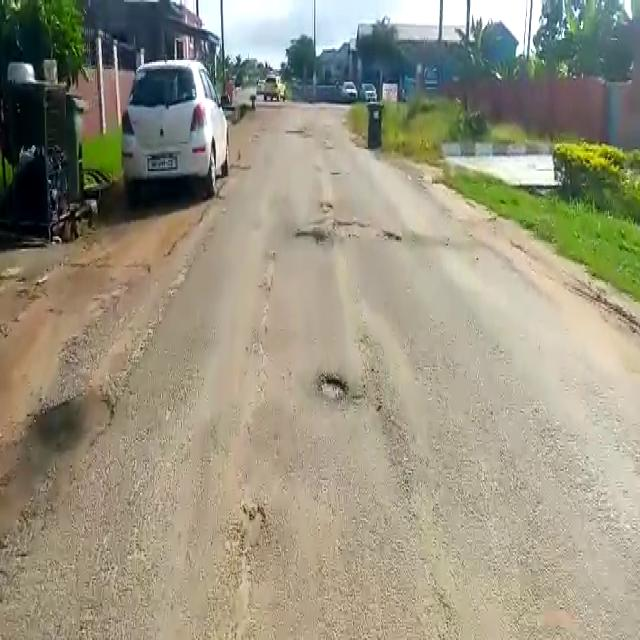Pothole: (334, 221, 404, 246), (313, 371, 357, 400), (292, 226, 327, 243)
